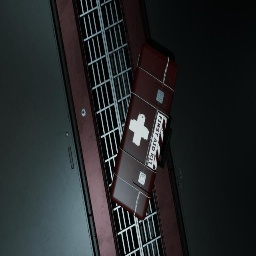FirstAidBox ,: (110, 43, 178, 221)
